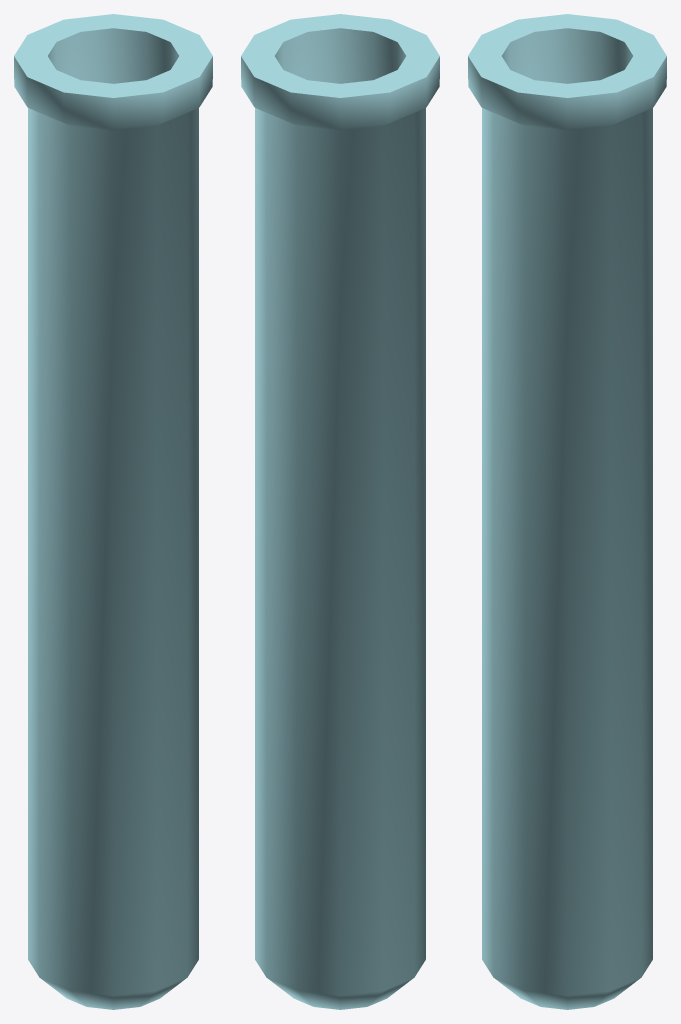
The model's file is PotionBottleEmpty8.fbx.
The picture shows the model from 3 angles, left to right: view 1: azimuth 30°, elevation 25°; view 2: azimuth 150°, elevation 25°; view 3: azimuth 270°, elevation 25°; orthographic projection.
Parts seen in each view (by area): view 1: PotionBottleEmpty8; view 2: PotionBottleEmpty8; view 3: PotionBottleEmpty8.
Boxes of the visible parts, x1,y1,x2,y2 form: PotionBottleEmpty8: [14, 14, 212, 1009]; PotionBottleEmpty8: [241, 14, 439, 1009]; PotionBottleEmpty8: [468, 14, 666, 1009].
Bounding box in the file's own units: 3.49 × 18 × 3.49.
